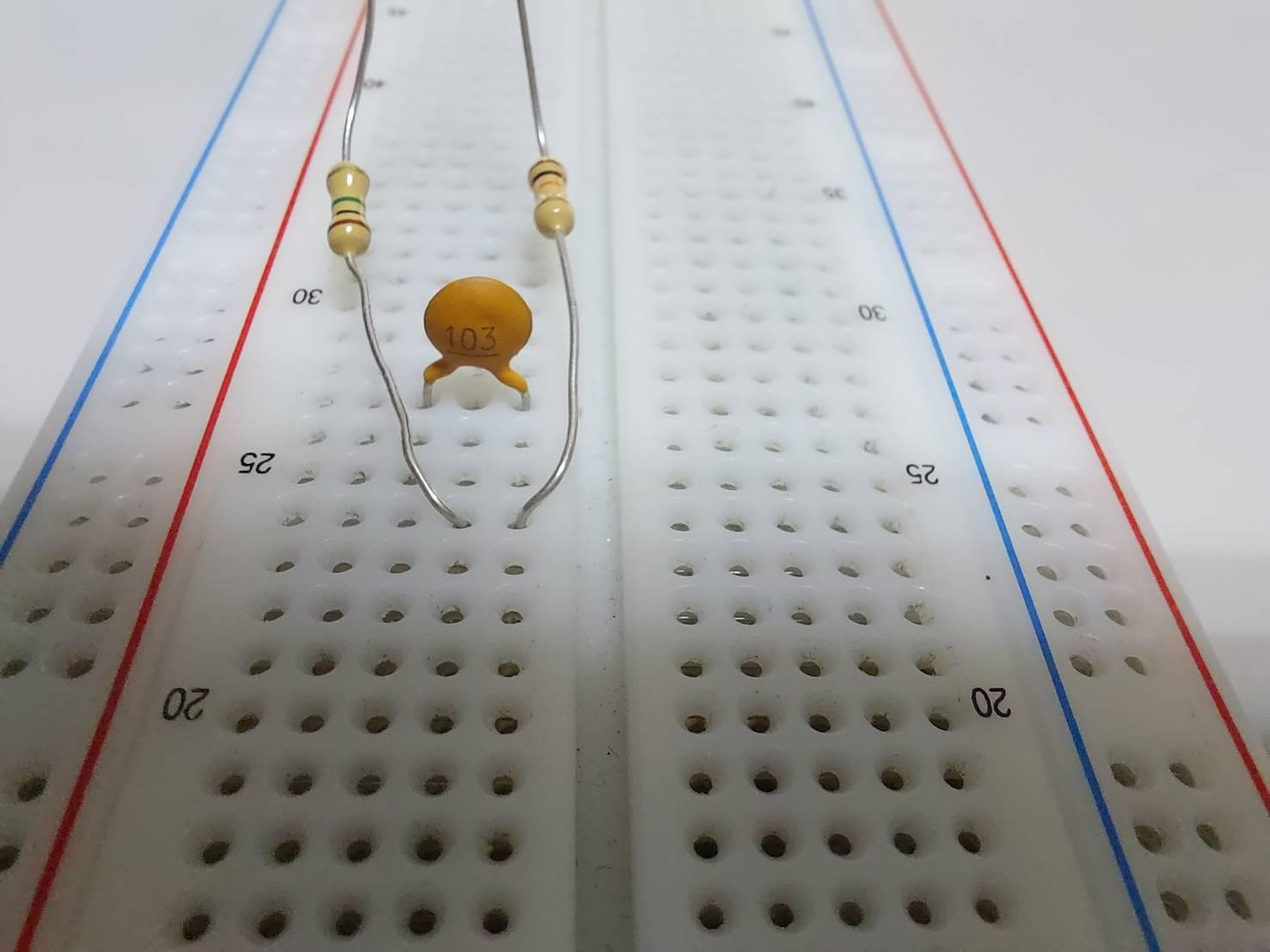resistor: (323, 150, 375, 260), (532, 158, 591, 236)
